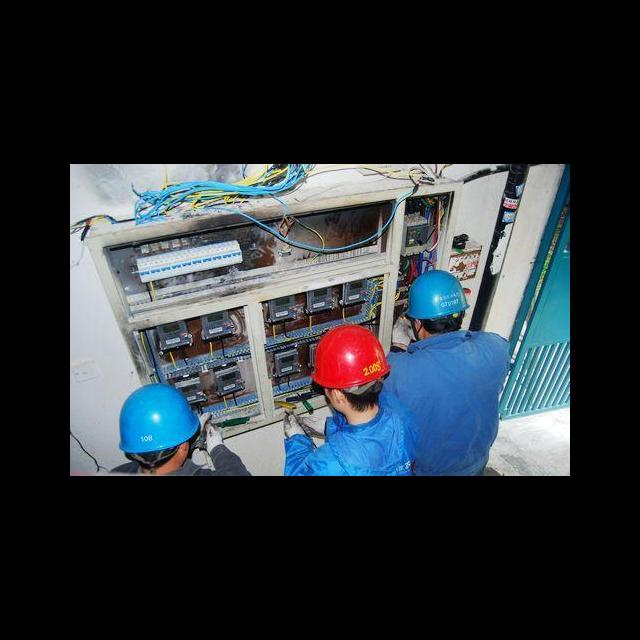Gloves: (297, 414, 327, 434), (392, 317, 412, 346), (192, 412, 212, 440), (205, 423, 223, 453), (285, 415, 306, 438)
Hardhat: (117, 386, 201, 452), (310, 325, 391, 389), (404, 270, 470, 320)
NO-Mask: (331, 397, 346, 412)
NO-Safety Vest: (395, 336, 503, 476), (317, 411, 410, 476), (118, 462, 217, 476)
Person: (377, 270, 512, 476), (279, 325, 411, 476), (104, 385, 251, 476)
